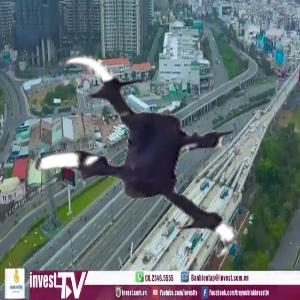drone: (3, 36, 259, 292)
